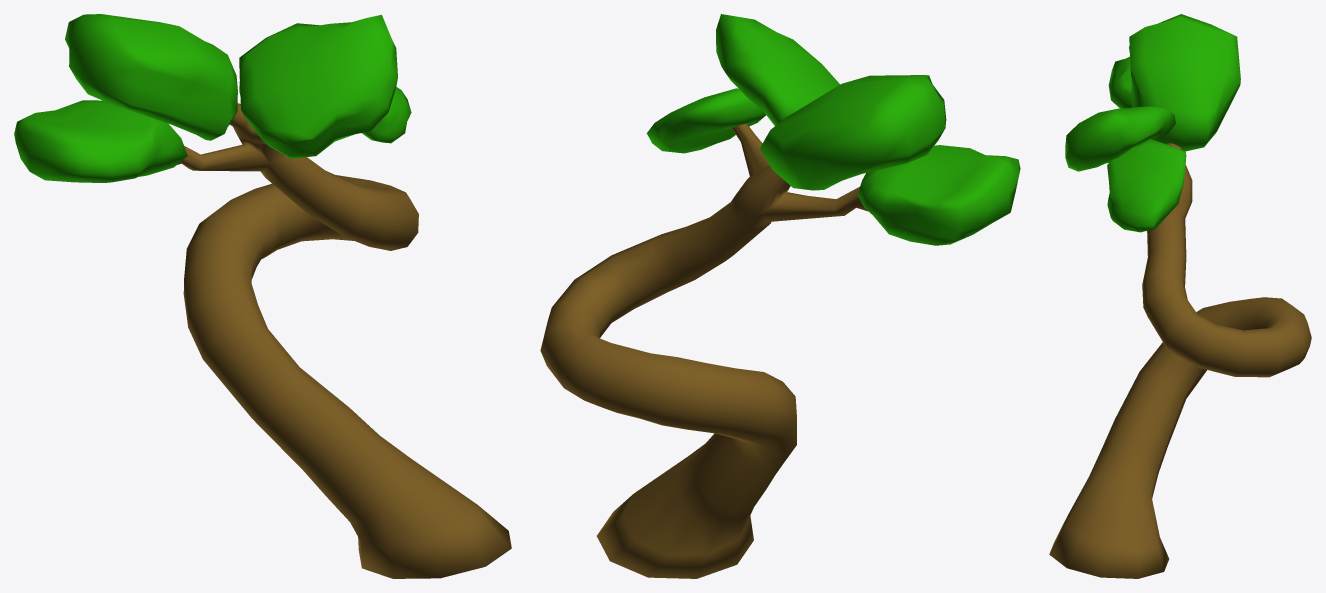
File: SM_CurlyTree_Jungle.fbx
3 views of the same model, side by side, from view 1: azimuth 30°, elevation 25°; view 2: azimuth 150°, elevation 25°; view 3: azimuth 270°, elevation 25° (orthographic). The views are drawn at different scales.
Parts seen in each view (by area): view 1: pCylinder15, TreeNuggets_pCube113; view 2: pCylinder15, TreeNuggets_pCube113; view 3: pCylinder15, TreeNuggets_pCube113.
Part boxes in pixels (bbox=[...]): pCylinder15: bbox=[177, 103, 511, 578]; TreeNuggets_pCube113: bbox=[14, 14, 411, 182]; pCylinder15: bbox=[540, 123, 868, 578]; TreeNuggets_pCube113: bbox=[646, 14, 1020, 245]; pCylinder15: bbox=[1049, 143, 1311, 578]; TreeNuggets_pCube113: bbox=[1065, 14, 1240, 232].
Bounding box in the file's own units: 478 × 594 × 320.
